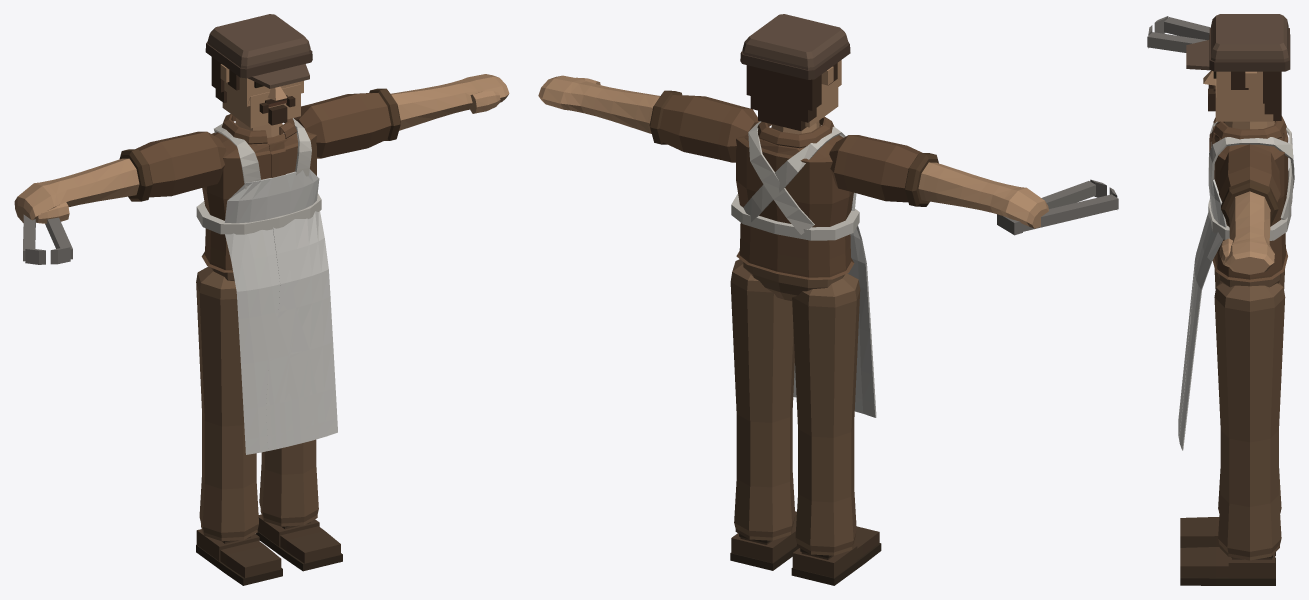
The model's file is street-vendor-139de3.glb.
3 views of the same model, side by side, from view 1: azimuth 30°, elevation 25°; view 2: azimuth 150°, elevation 25°; view 3: azimuth 270°, elevation 25° (orthographic). The views are drawn at different scales.
Parts seen in each view (by area): view 1: street-vendor-139de3; view 2: street-vendor-139de3; view 3: street-vendor-139de3.
Boxes of the visible parts, left/top/right/bottom form: street-vendor-139de3: left=14, top=14, right=509, bottom=585; street-vendor-139de3: left=538, top=14, right=1118, bottom=585; street-vendor-139de3: left=1147, top=14, right=1294, bottom=585.
Bounding box in the file's own units: 1.8 × 1.72 × 0.4311.
